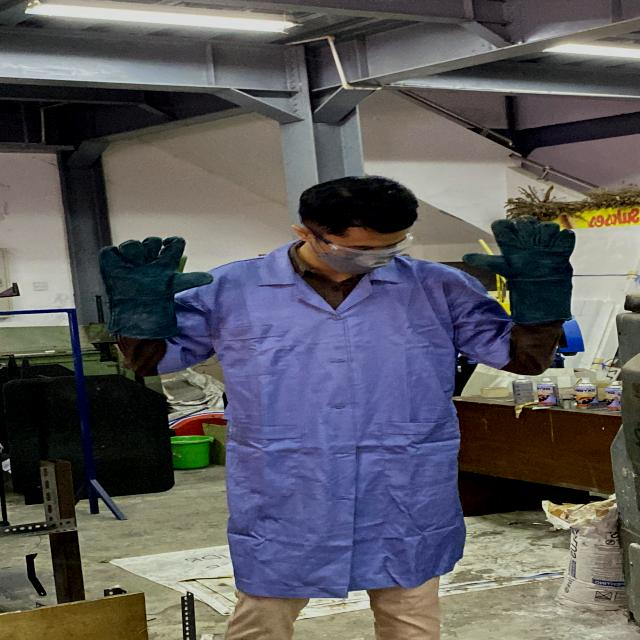glasses: (317, 232, 421, 256)
hand_glove: (455, 212, 586, 294), (94, 231, 222, 313)
head_nohelmet: (292, 176, 423, 241)
person: (91, 176, 585, 640)
